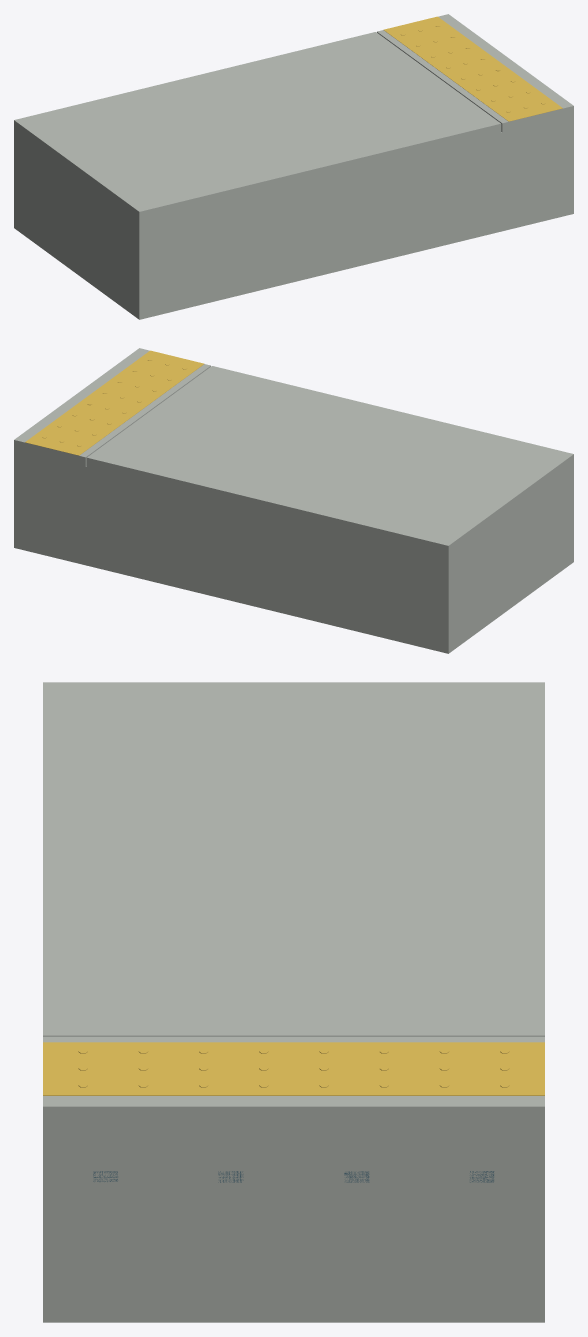
The model's file is platform-edge-2m.lod0.glb.
3 renders of one model, top to bottom at view 1: azimuth 30°, elevation 25°; view 2: azimuth 150°, elevation 25°; view 3: azimuth 270°, elevation 25°, orthographic. The views are drawn at different scales.
Visible parts, largest first — view 1: module-batch-concrete, module-batch-tactile-yellow; view 2: module-batch-concrete, module-batch-tactile-yellow; view 3: module-batch-concrete, module-batch-tactile-yellow, module-batch-painted-metal.
Part boxes in pixels (left/top/right/bottom): module-batch-concrete: left=14, top=14, right=573, bottom=319; module-batch-tactile-yellow: left=383, top=16, right=562, bottom=121; module-batch-concrete: left=14, top=348, right=573, bottom=653; module-batch-tactile-yellow: left=25, top=350, right=204, bottom=455; module-batch-concrete: left=43, top=682, right=544, bottom=1322; module-batch-tactile-yellow: left=43, top=1042, right=544, bottom=1095; module-batch-painted-metal: left=93, top=1171, right=494, bottom=1182.
Bounding box in the file's own units: 4 × 0.955 × 2.
